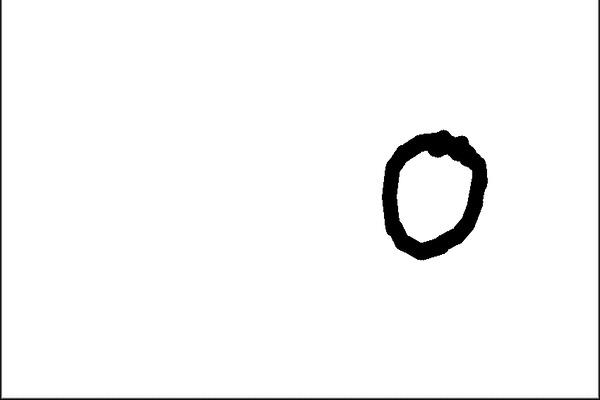O: (369, 117, 495, 264)
